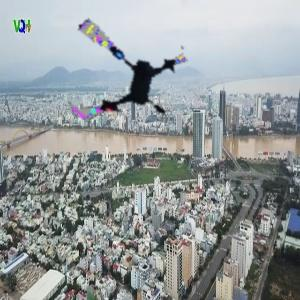drone: (56, 12, 189, 145)
